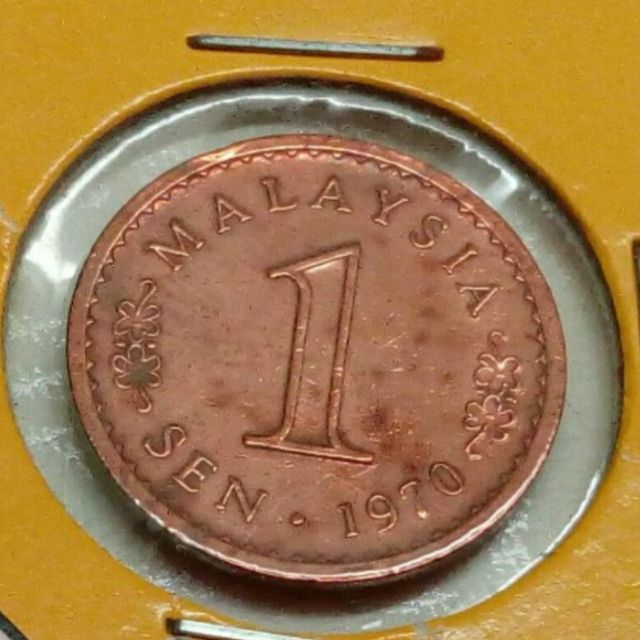1c: (64, 132, 572, 587)
